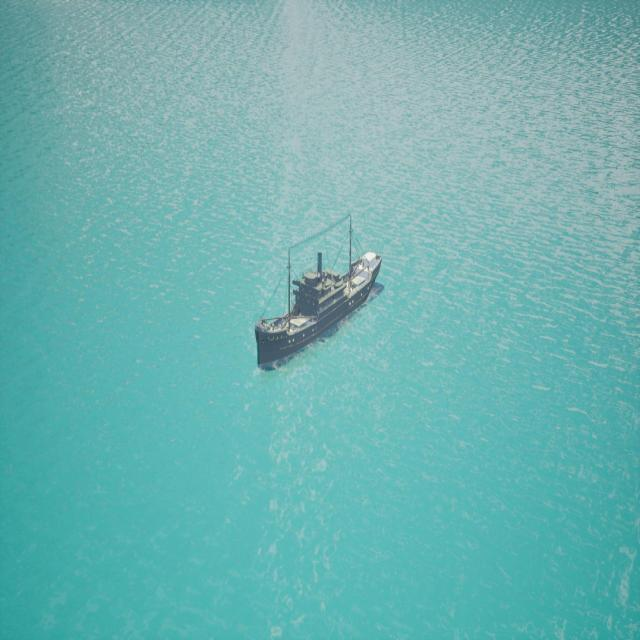fishing ship: (254, 251, 386, 373)
